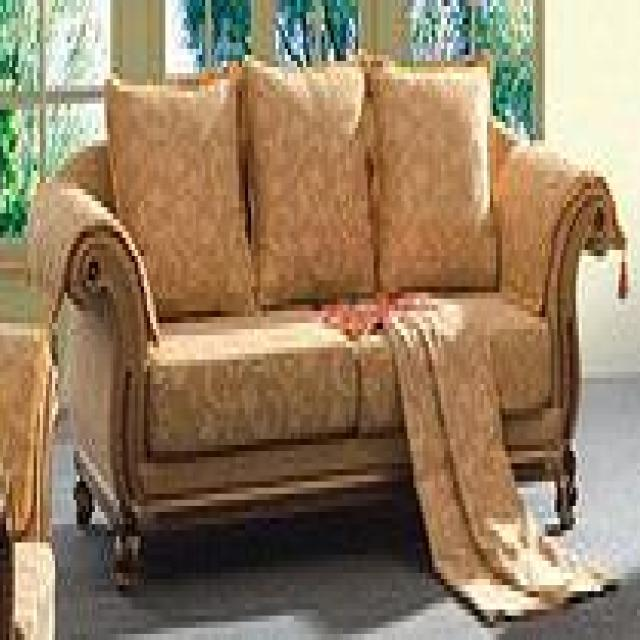sofa: (31, 47, 627, 586)
